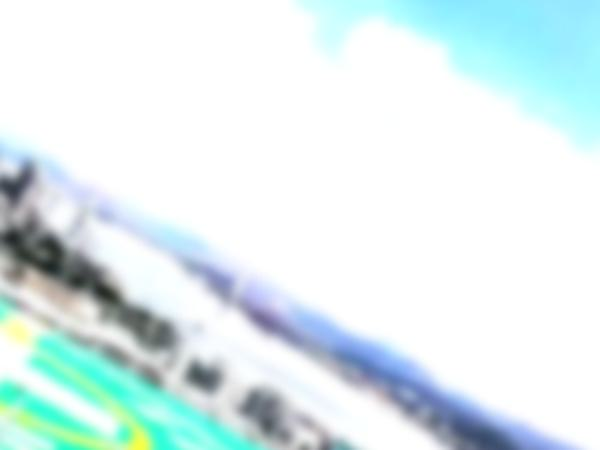Apron: (1, 321, 149, 448)
